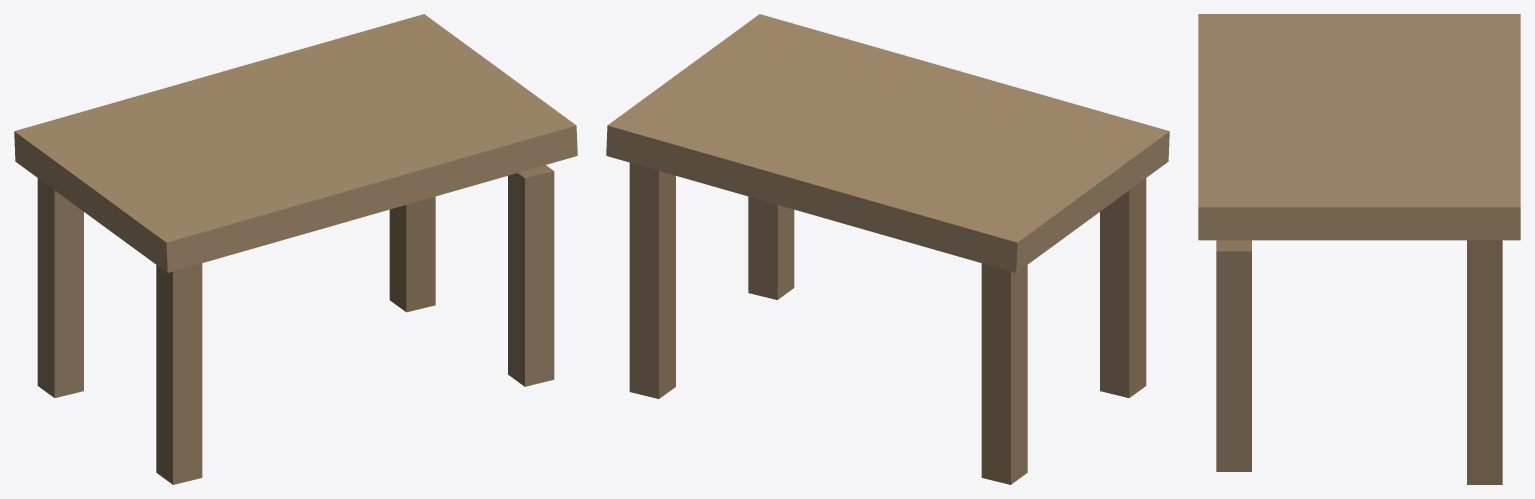
The model's file is furn_table.glb.
The picture shows the model from 3 angles, left to right: view 1: azimuth 30°, elevation 25°; view 2: azimuth 150°, elevation 25°; view 3: azimuth 270°, elevation 25°; orthographic projection. The views are drawn at different scales.
Visible parts, largest first — view 1: furn_table2; view 2: furn_table2; view 3: furn_table2.
Boxes of the visible parts, x1=… form: furn_table2: x1=14, y1=14, x2=577, y2=484; furn_table2: x1=606, y1=14, x2=1169, y2=484; furn_table2: x1=1198, y1=14, x2=1520, y2=484.
Size of the model in its own units: 1.4 by 0.878 by 0.9.
